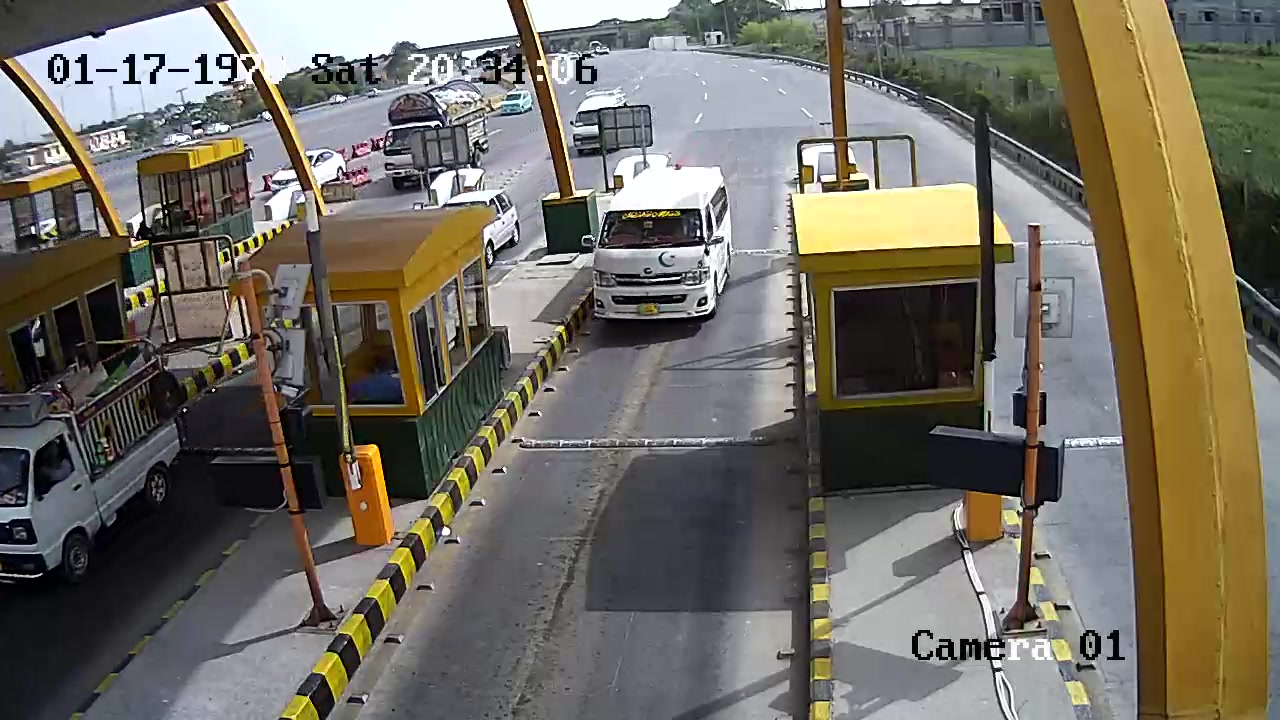F3: (582, 161, 746, 361)
